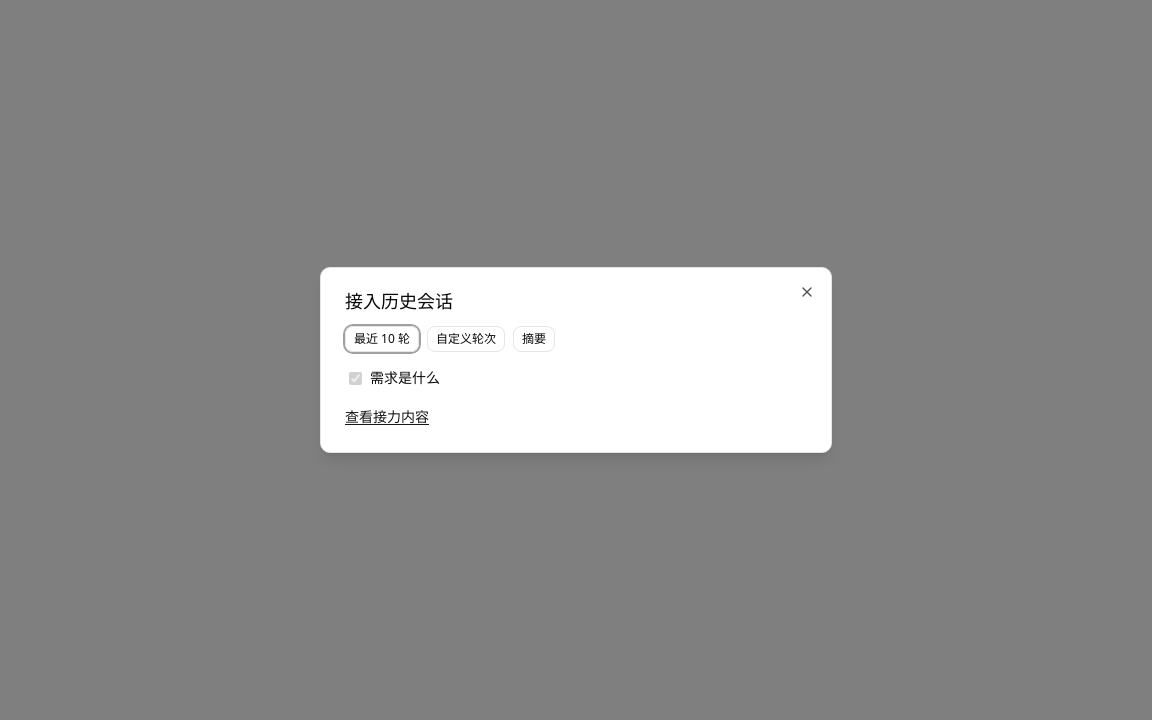
Test: RelayDialogController › prevents overlapping scope updates while one update is pending
Click the button "自定义轮次": (466, 339) [427,326,505,352]
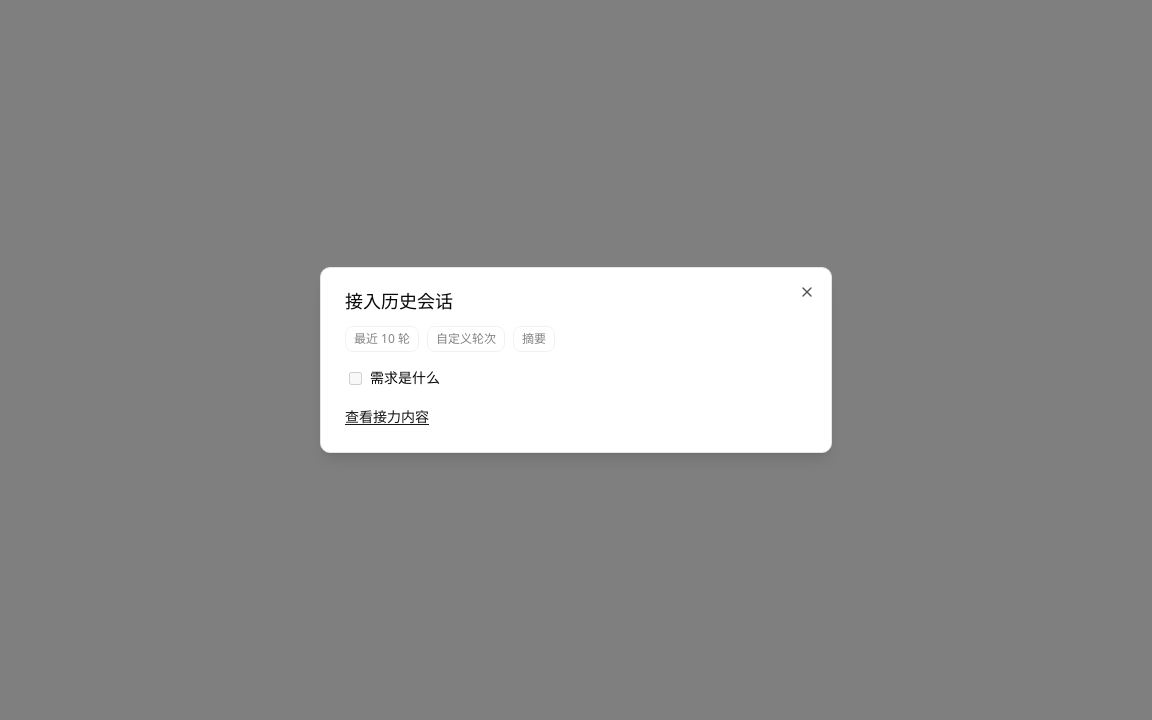
expect the button "最近 10 轮" is disabled: met, box [345,326,419,352]
expect the button "自定义轮次" is disabled: met, box [427,326,505,352]
expect the button "摘要" is disabled: met
Click the button "摘要": (534, 339) [513,326,555,352]
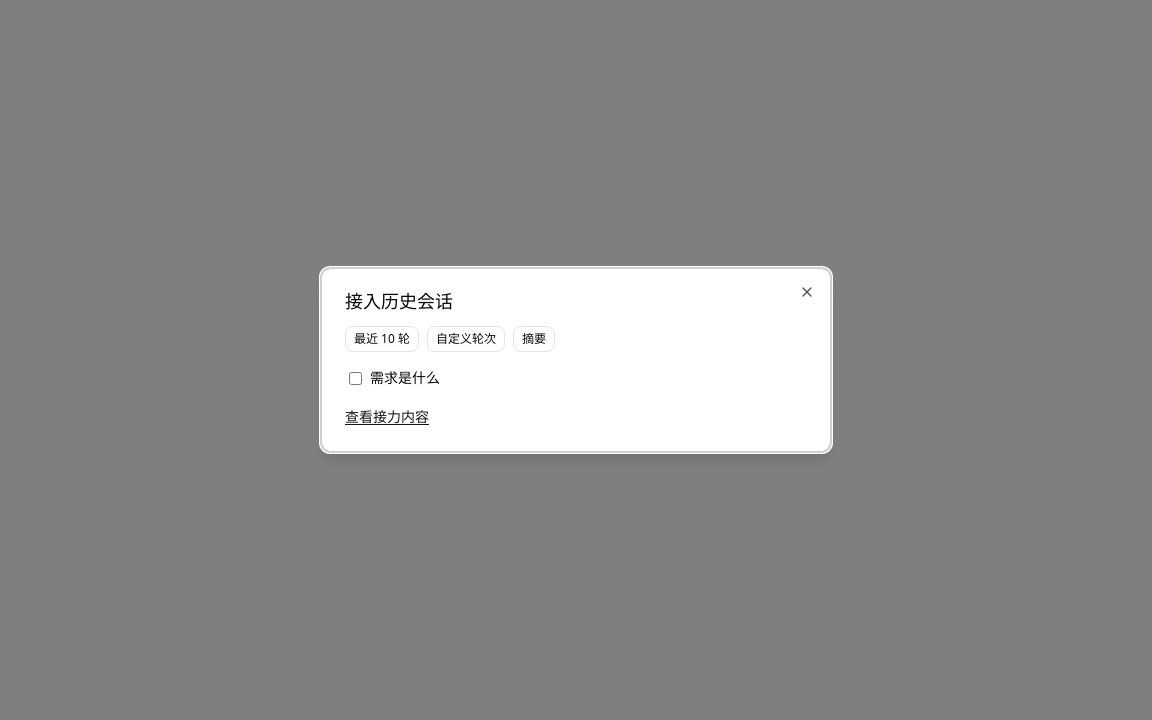
expect the button "摘要" is enabled: met, box [513,326,555,352]
